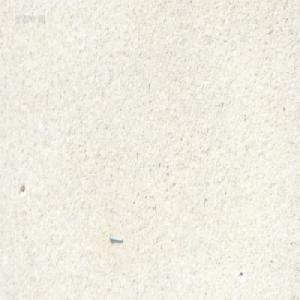Nail: (108, 233, 123, 243)
